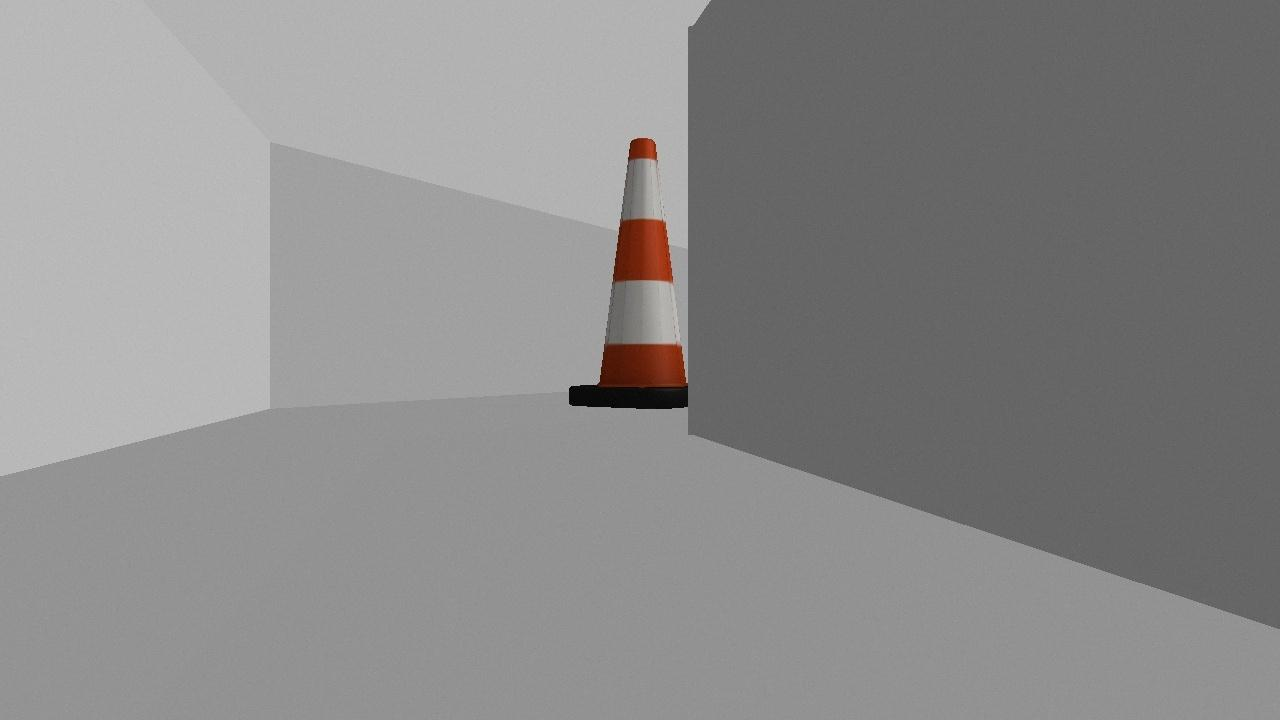cone_barrel: (566, 137, 712, 409)
